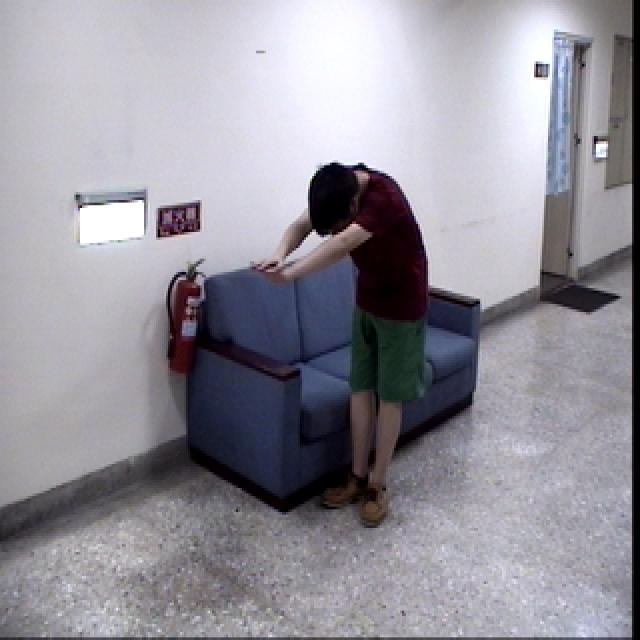bend: (246, 148, 434, 530)
